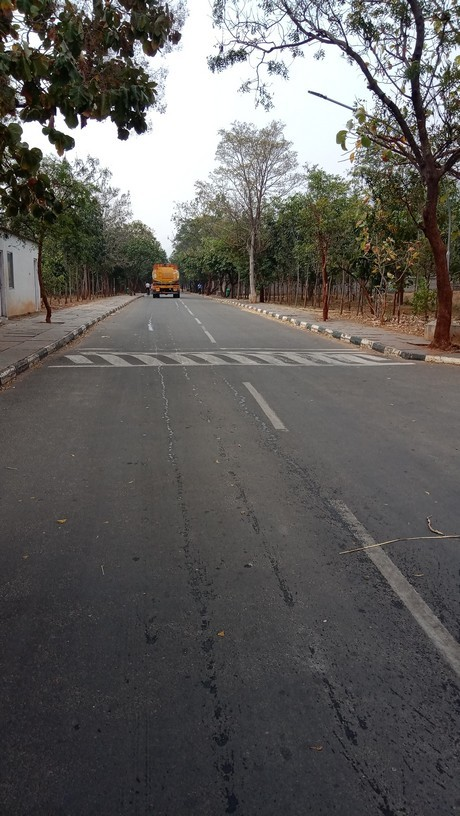bump: (44, 346, 421, 367)
